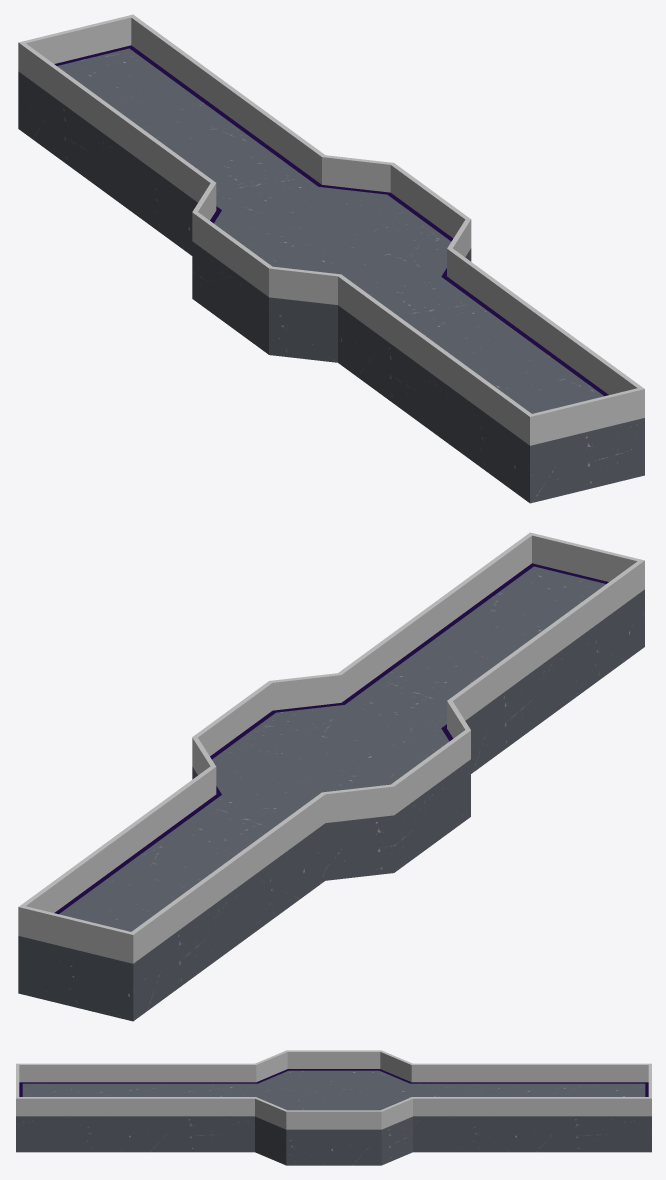
The model's file is Duel_Stage 2.fbx.
3 renders of one model, top to bottom at view 1: azimuth 30°, elevation 25°; view 2: azimuth 150°, elevation 25°; view 3: azimuth 270°, elevation 25°, orthographic. The views are drawn at different scales.
Visible parts, largest first — view 1: Plane, Plane.001, Plane.002; view 2: Plane, Plane.001, Plane.002; view 3: Plane, Plane.001, Plane.002.
Part boxes in pixels (x1,y1,x2,y2): Plane: [18, 48, 644, 503]; Plane.001: [18, 14, 644, 445]; Plane.002: [54, 45, 608, 396]; Plane: [18, 566, 644, 1021]; Plane.001: [18, 532, 644, 963]; Plane.002: [54, 563, 608, 914]; Plane: [16, 1070, 651, 1165]; Plane.001: [16, 1050, 651, 1129]; Plane.002: [19, 1069, 648, 1096].
Size of the model in its own units: 2200 by 900 by 9680.
